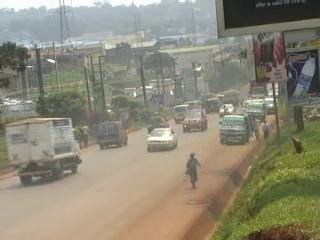Car: (145, 126, 178, 153), (145, 111, 172, 133), (203, 98, 221, 116), (217, 102, 237, 118)
